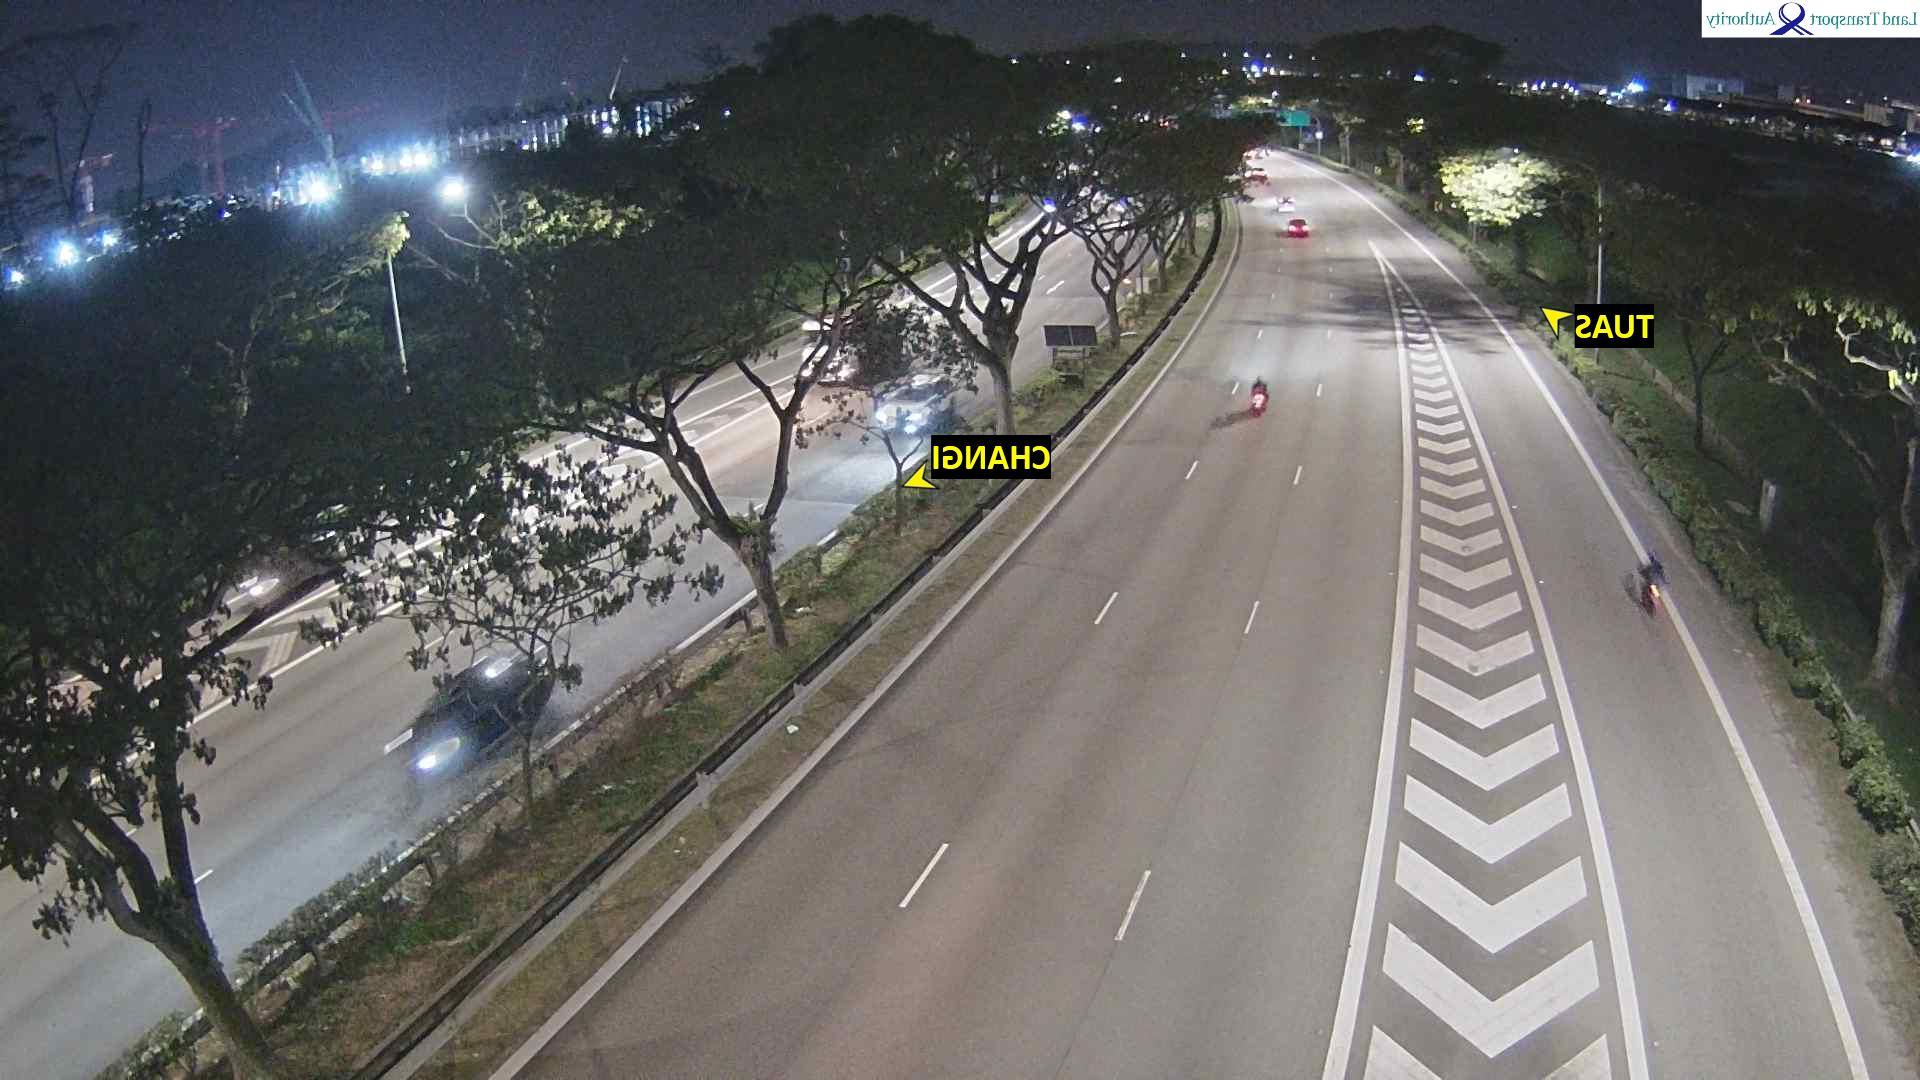incoming: (385, 694, 478, 786), (868, 392, 924, 440)
